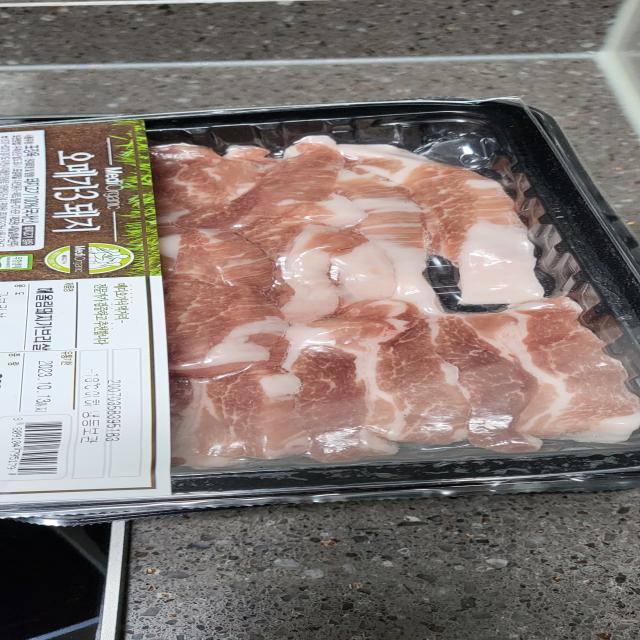pork: (9, 99, 640, 480)
